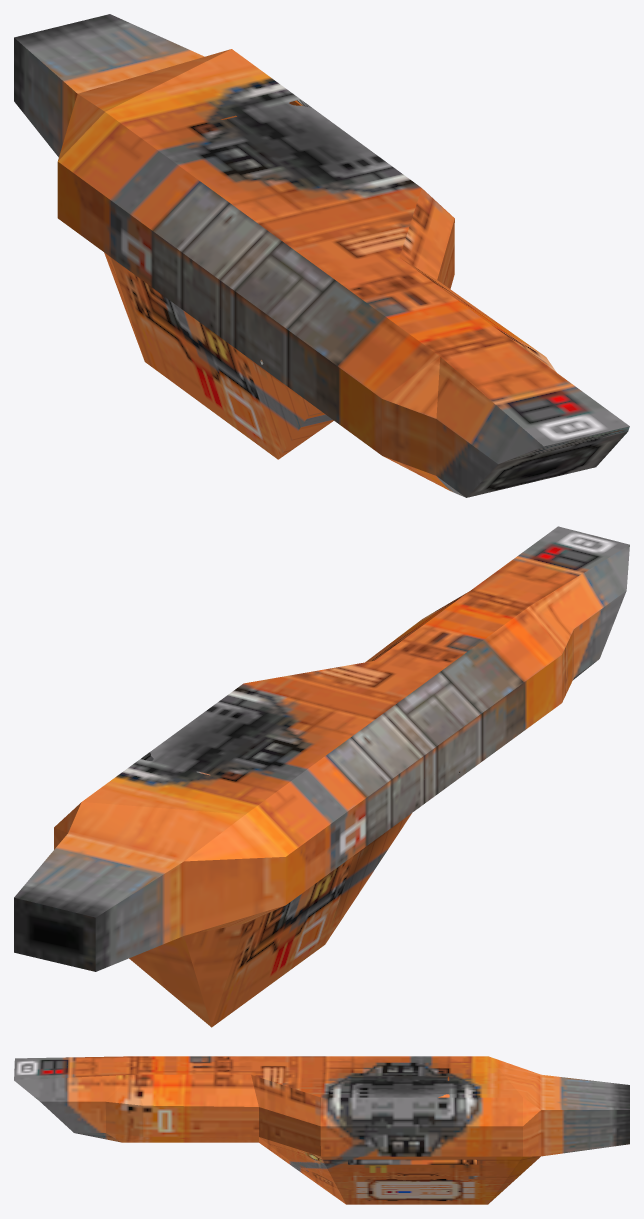
3 renders of one model, top to bottom at view 1: azimuth 30°, elevation 25°; view 2: azimuth 150°, elevation 25°; view 3: azimuth 270°, elevation 25°, orthographic. The views are drawn at different scales.
Visible parts, largest first — view 1: frontUV, leftoverUV; view 2: frontUV, leftoverUV; view 3: frontUV, leftoverUV.
Part boxes in pixels (x1=…): frontUV: x1=14, y1=14, x2=629, y2=497; leftoverUV: x1=104, y1=252, x2=314, y2=459; frontUV: x1=14, y1=526, x2=629, y2=1027; leftoverUV: x1=184, y1=771, x2=411, y2=1027; frontUV: x1=14, y1=1056, x2=629, y2=1156; leftoverUV: x1=259, y1=1137, x2=540, y2=1204.
Bounding box in the file's own units: 3.96 × 4.11 × 16.59.
